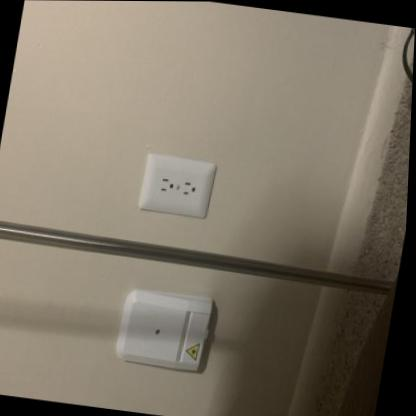OUTLET: (137, 150, 217, 217)
